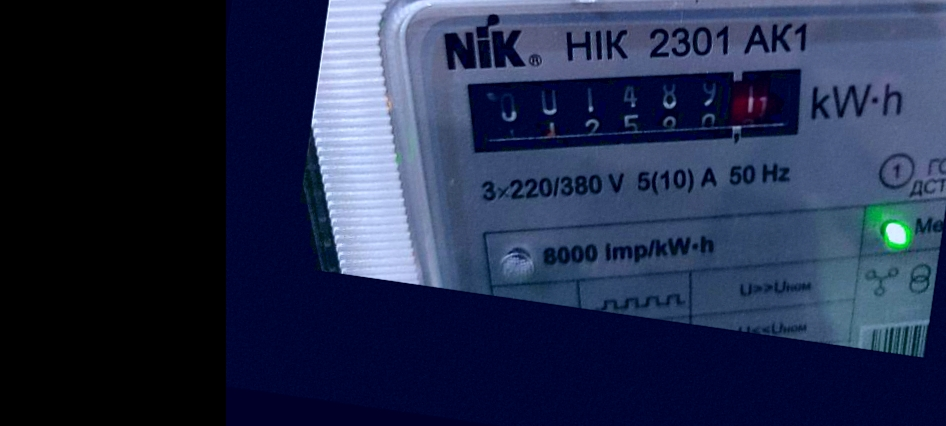0: (534, 79, 565, 119), (495, 88, 523, 126)
1: (739, 77, 764, 117), (579, 82, 603, 115)
4: (618, 77, 644, 111)
8: (658, 75, 684, 114)
9: (698, 75, 722, 109)
screen: (446, 10, 839, 213)
